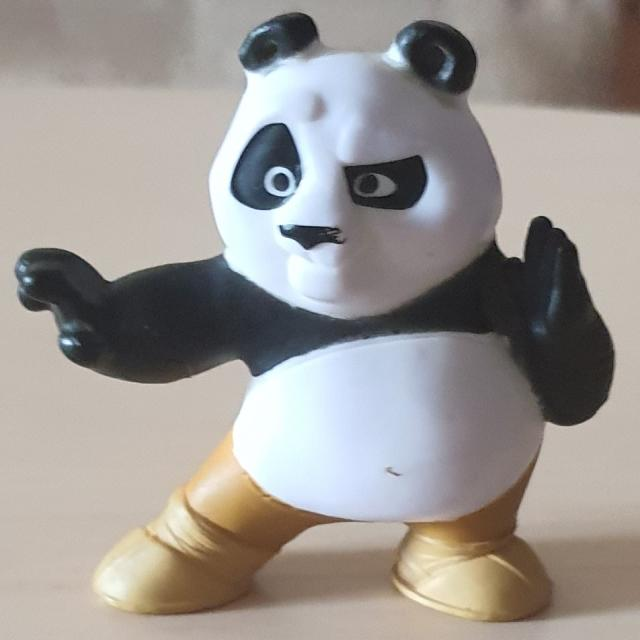Panda: (13, 11, 616, 622)
